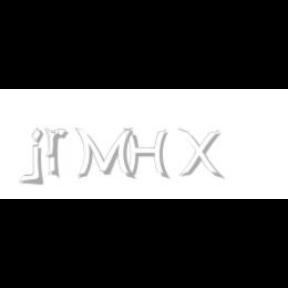H: (123, 128, 169, 180)
M: (74, 128, 134, 180)
X: (177, 128, 221, 180)
j: (28, 128, 58, 186)
l: (47, 128, 63, 180)
r: (44, 128, 72, 158)
